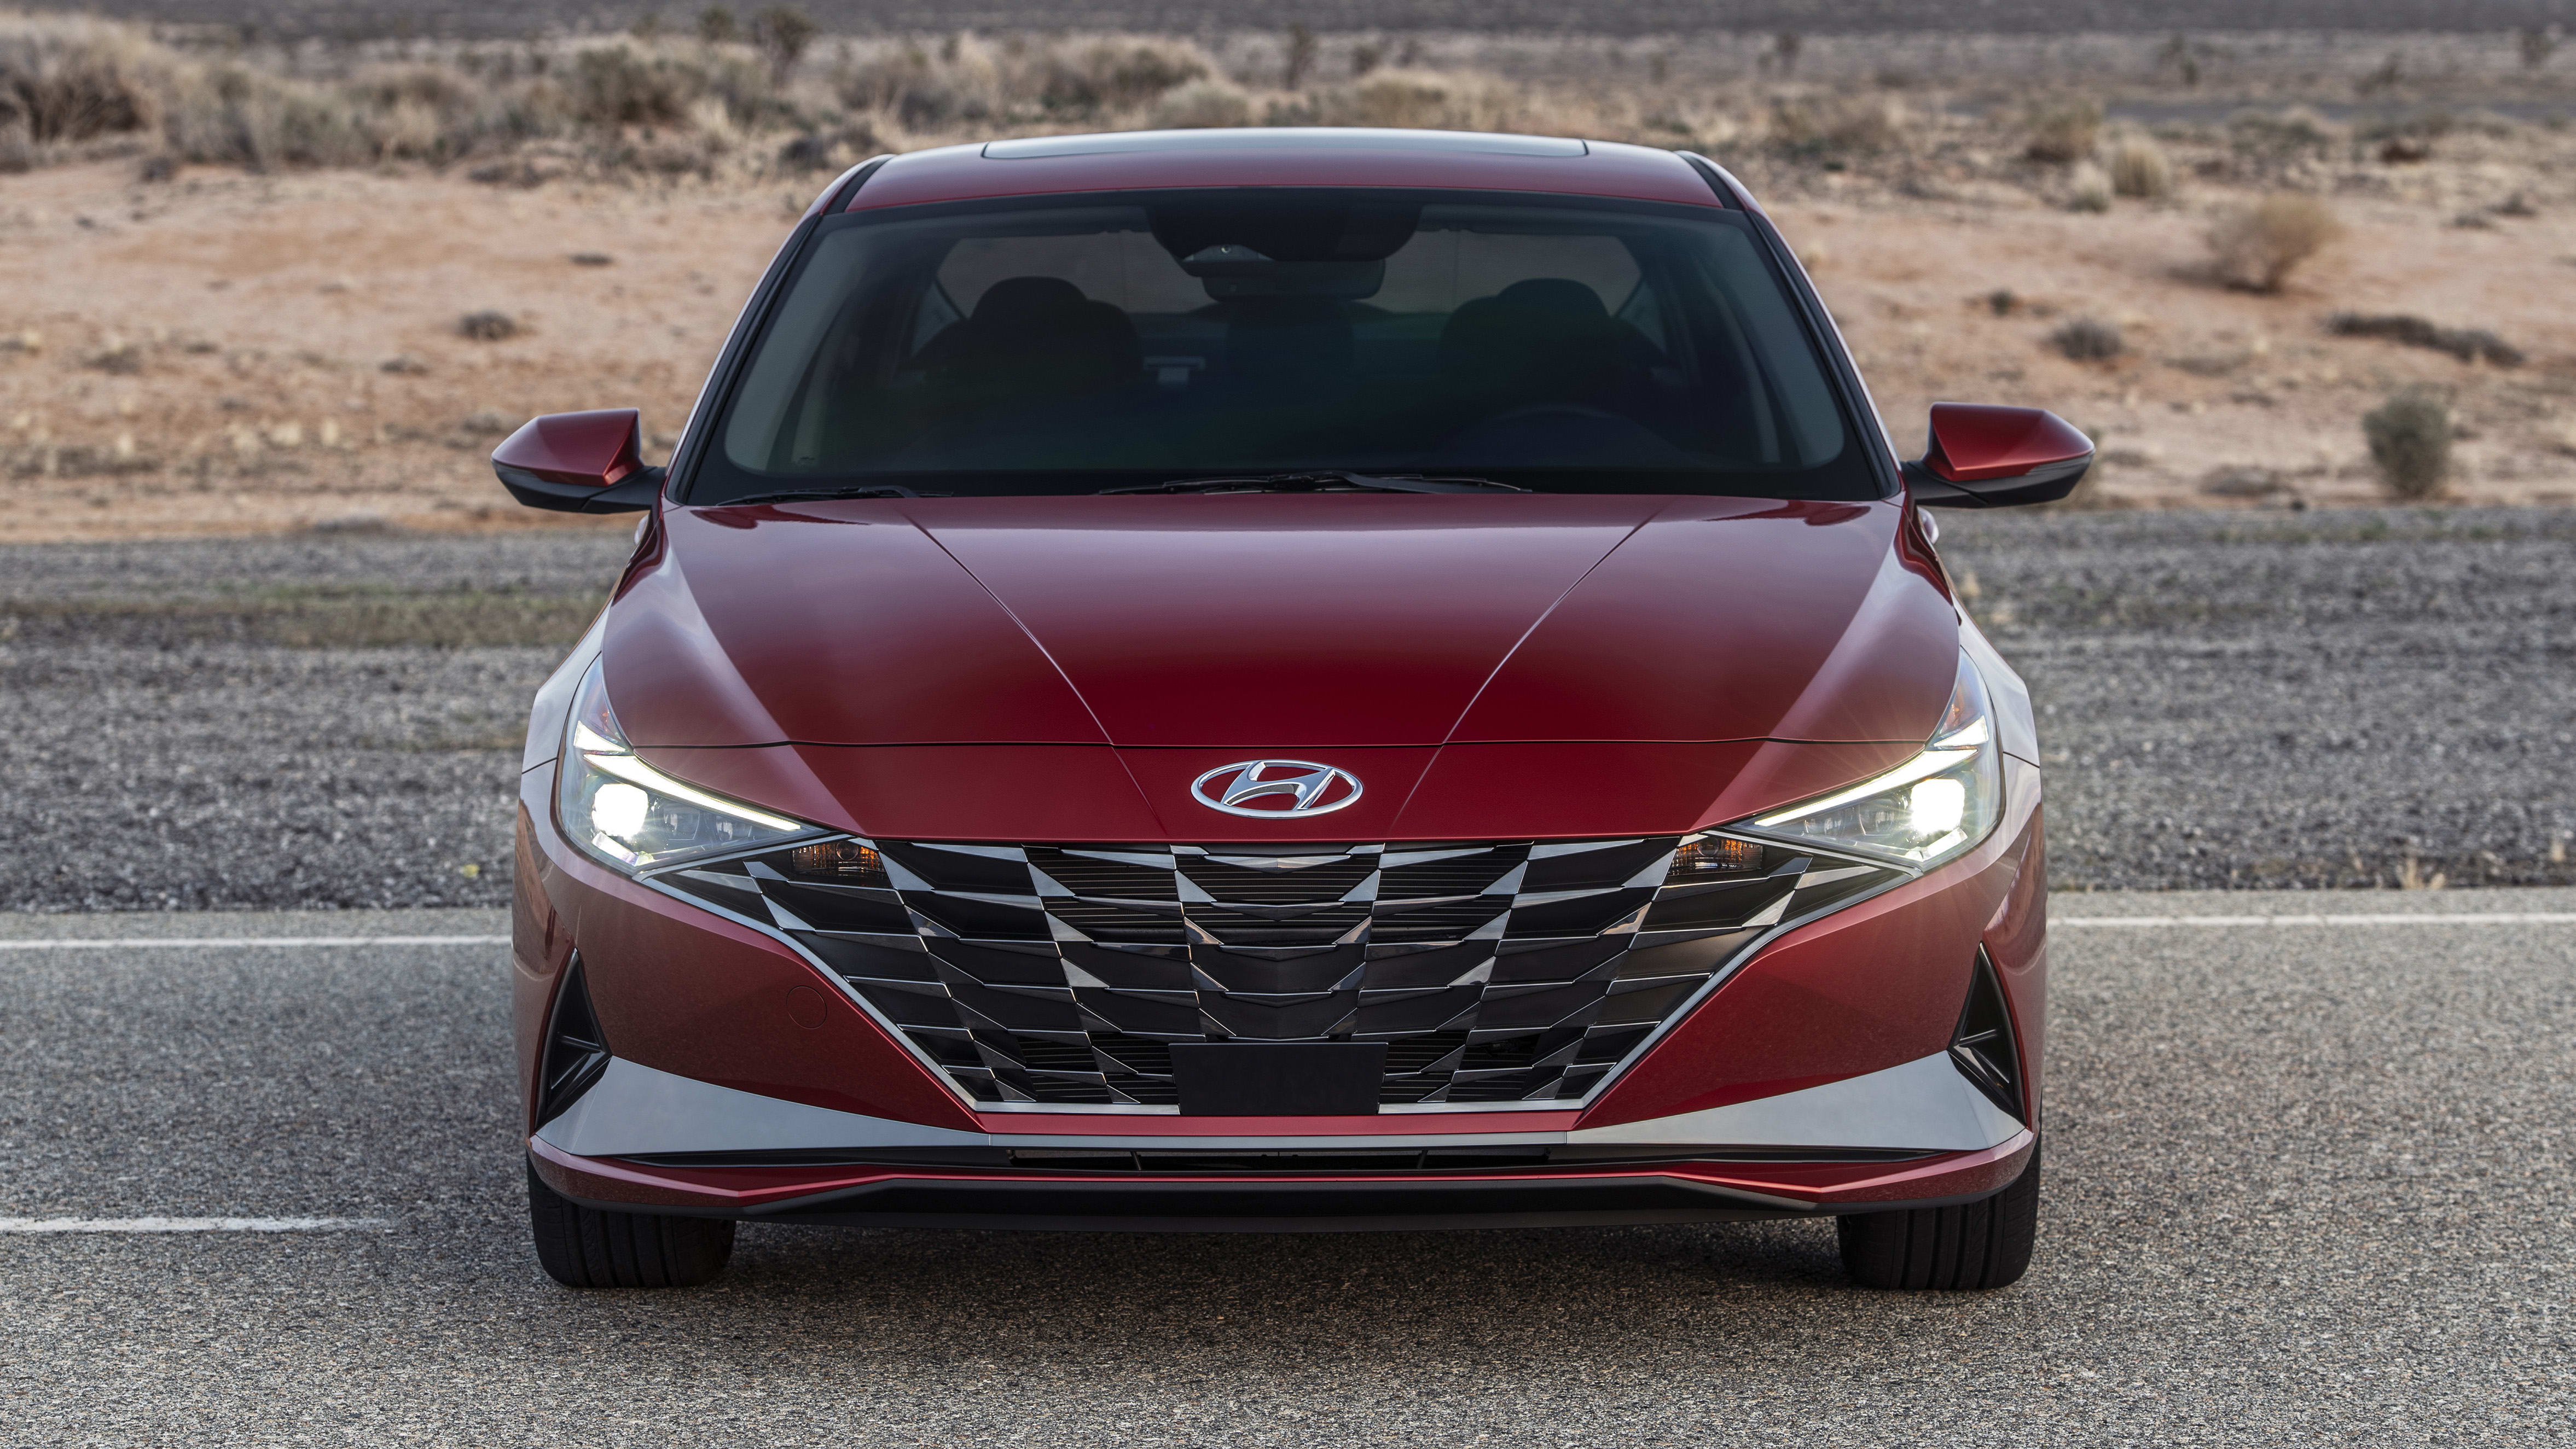car: (490, 126, 2091, 1295)
